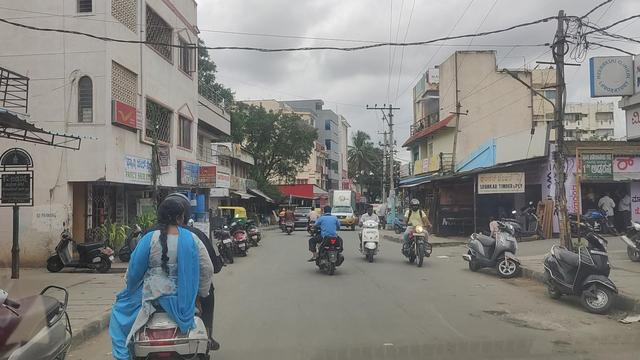LMV: (131, 188, 225, 360), (312, 203, 343, 280), (361, 204, 383, 261)
RoadDamages: (487, 300, 560, 337)
